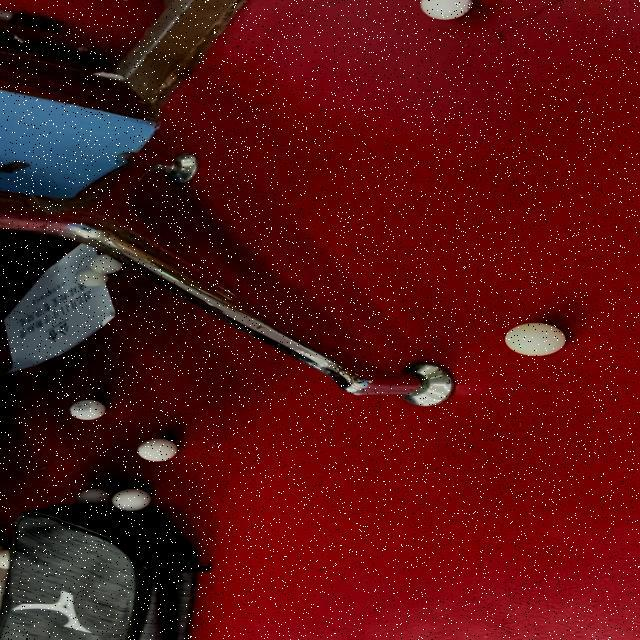ping-pong-ball: (500, 318, 570, 358), (130, 435, 184, 465), (106, 486, 158, 513), (64, 396, 112, 424), (72, 267, 112, 290), (86, 256, 128, 274)
